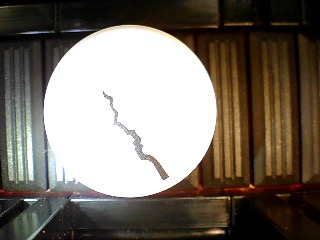CRACK: (43, 24, 218, 199)
